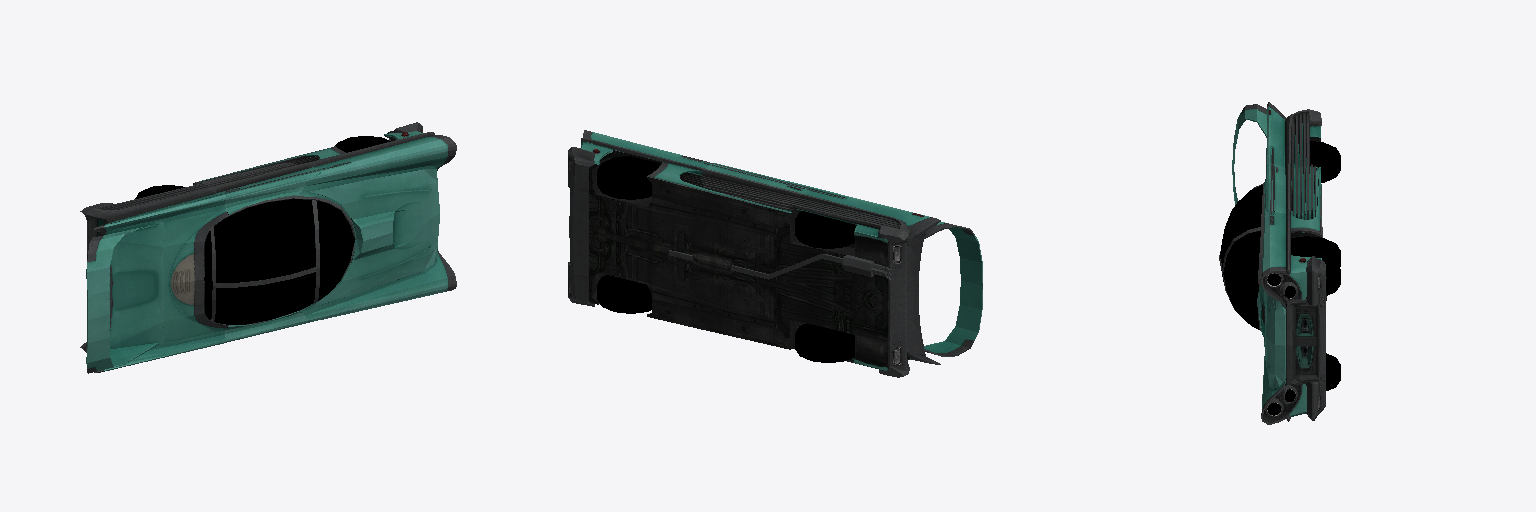
3 views of the same model, side by side, from view 1: azimuth 30°, elevation 25°; view 2: azimuth 150°, elevation 25°; view 3: azimuth 270°, elevation 25° (orthographic).
Parts seen in each view (by area): view 1: mtl_nt_2020_car_01_exterior, mtl_nt_2020_car_01_glass_out, mtl_nt_2020_car_01_glass_in, mtl_nt_2020_car_01_tire, mtl_nt_2020_car_01_interior; view 2: mtl_nt_2020_car_01_exterior, mtl_nt_2020_car_01_tire; view 3: mtl_nt_2020_car_01_exterior, mtl_nt_2020_car_01_glass_out, mtl_nt_2020_car_01_tire, mtl_nt_2020_car_01_glass_in.
Part boxes in pixels (x1,y1,x2,y2): mtl_nt_2020_car_01_exterior: (80,122,456,373); mtl_nt_2020_car_01_glass_out: (214,199,354,324); mtl_nt_2020_car_01_glass_in: (214,199,354,324); mtl_nt_2020_car_01_tire: (135,136,390,198); mtl_nt_2020_car_01_interior: (204,212,228,327); mtl_nt_2020_car_01_exterior: (568,130,982,377); mtl_nt_2020_car_01_tire: (597,156,856,362); mtl_nt_2020_car_01_exterior: (1219,102,1326,424); mtl_nt_2020_car_01_glass_out: (1220,185,1295,415); mtl_nt_2020_car_01_tire: (1291,141,1340,390); mtl_nt_2020_car_01_glass_in: (1220,186,1262,327).
Bounding box in the file's own units: 538 × 209 × 148.
5 materials, 1 textured.